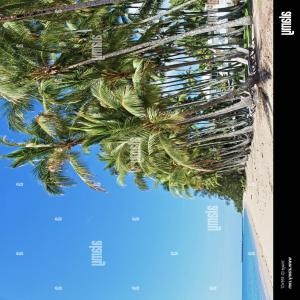palm tree: (0, 1, 256, 210)
